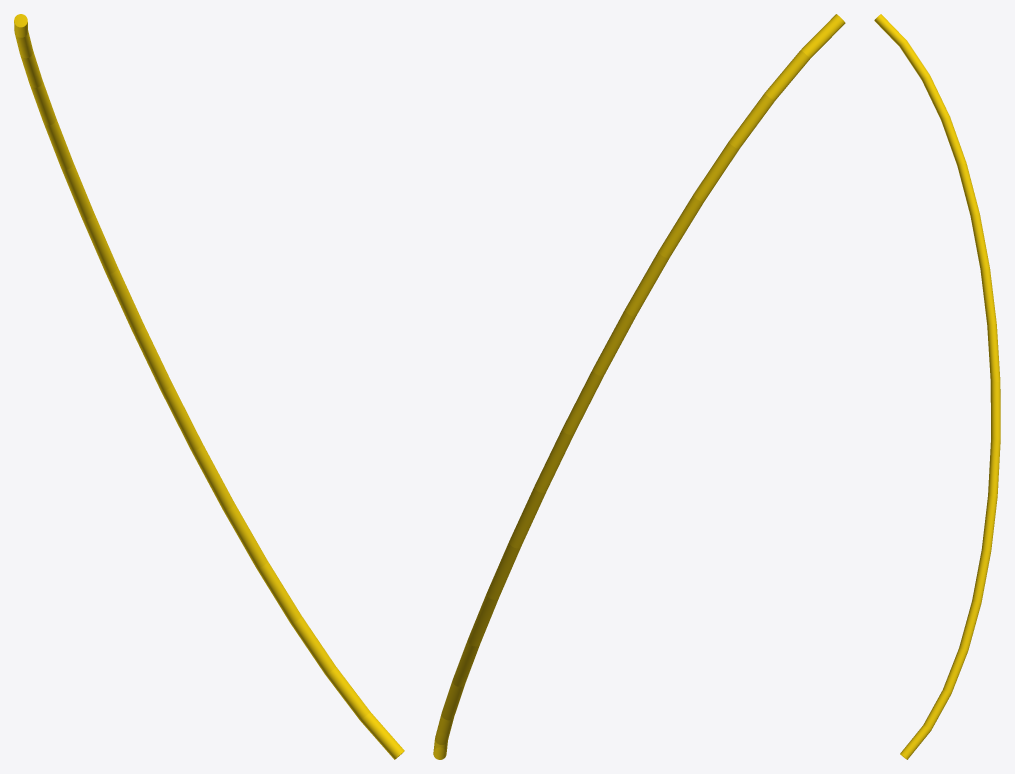
File: Event_421364160_track_17.fbx
3 views of the same model, side by side, from view 1: azimuth 30°, elevation 25°; view 2: azimuth 150°, elevation 25°; view 3: azimuth 270°, elevation 25° (orthographic). The views are drawn at different scales.
Visible parts, largest first — view 1: Model; view 2: Model; view 3: Model.
Boxes of the visible parts, x1=… form: Model: x1=14, y1=14, x2=404, y2=759; Model: x1=433, y1=14, x2=845, y2=759; Model: x1=874, y1=14, x2=1000, y2=759.
Bounding box in the file's own units: 1.37 × 2.75 × 0.5178.
